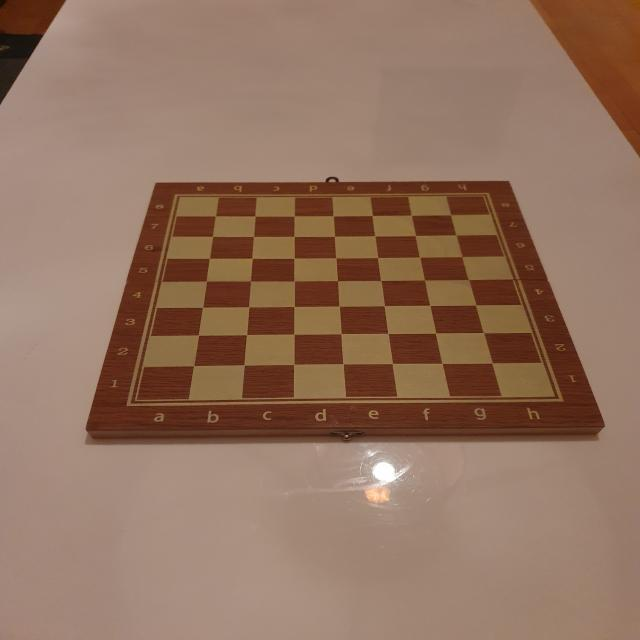chess-table-corners: (548, 389, 574, 411), (119, 394, 141, 412), (169, 188, 184, 200), (481, 189, 494, 201)
